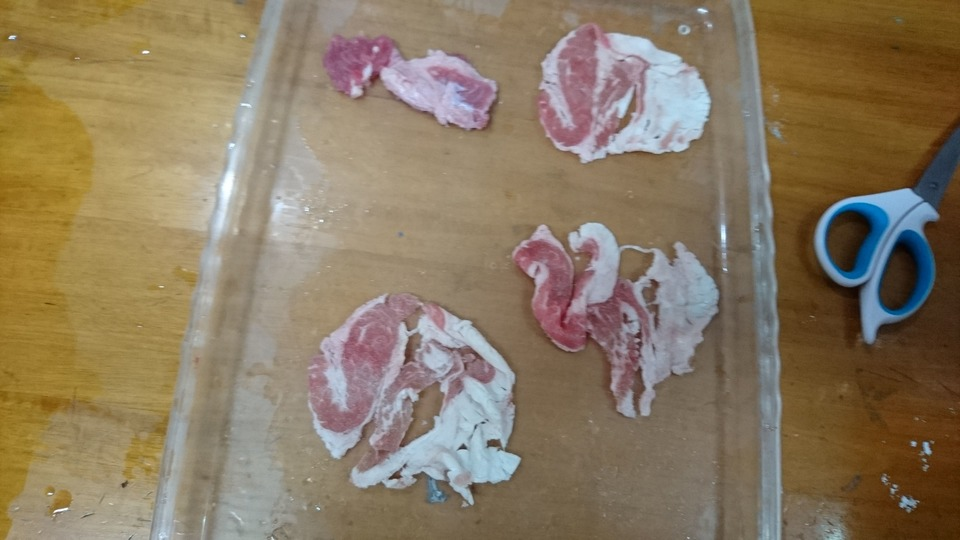restructured meat: (293, 278, 521, 494), (517, 207, 730, 426), (536, 23, 716, 165), (316, 20, 498, 136)
